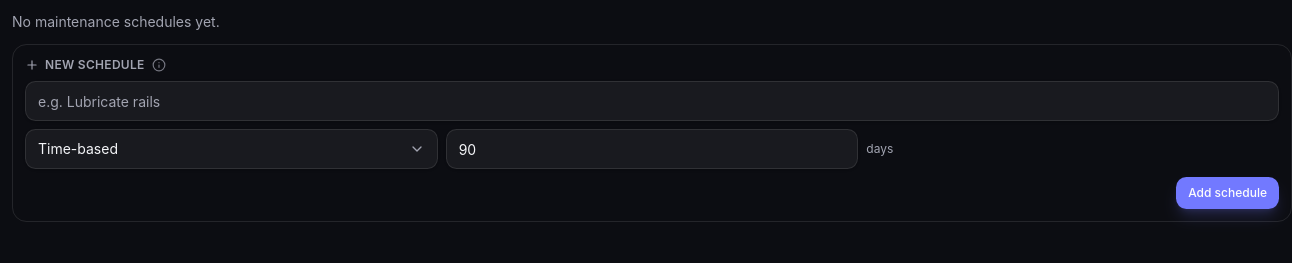
Test: MaintenanceEditor — the add gates › surfaces a create failure in an alert without clearing the name
This screenshot has width=1292, height=263.
Type "Calibrate" into the field with test id "maintenance-name" at [652, 101], box [25,81,1279,121]
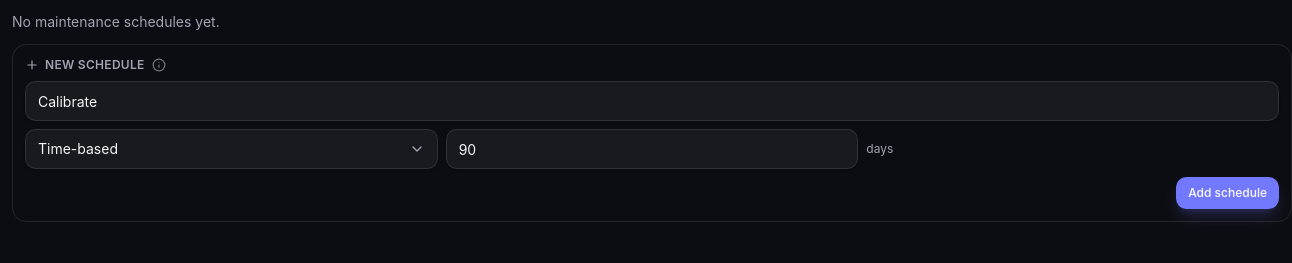
Click the button with test id "add-maintenance" at [1228, 193], box [1176,177,1279,209]
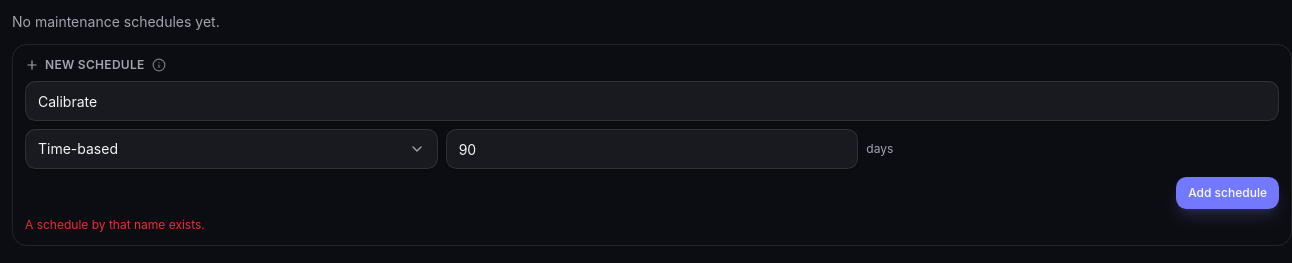
Now the message reads "A schedule by that name exists.", box [25,217,205,232]
